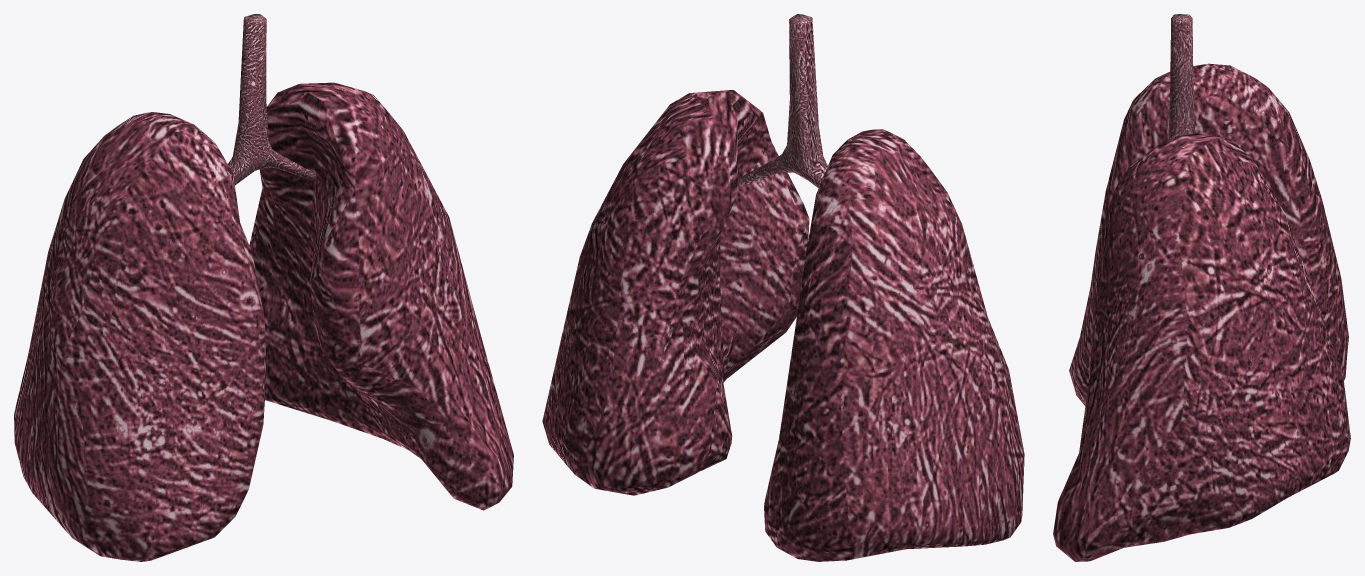
The model's file is lungs.gltf.
3 views of the same model, side by side, from view 1: azimuth 30°, elevation 25°; view 2: azimuth 150°, elevation 25°; view 3: azimuth 270°, elevation 25° (orthographic). The views are drawn at different scales.
Parts seen in each view (by area): view 1: Sphere.001, Sphere, Plane; view 2: Sphere.001, Sphere, Plane; view 3: Sphere, Sphere.001, Plane.
Boxes of the visible parts, <box> form: Sphere.001: <box>14,112,266,561</box>; Sphere: <box>249,82,513,510</box>; Plane: <box>228,14,316,185</box>; Sphere.001: <box>764,129,1024,561</box>; Sphere: <box>542,90,809,495</box>; Plane: <box>738,14,827,187</box>; Sphere: <box>1053,133,1350,561</box>; Sphere.001: <box>1069,63,1348,405</box>; Plane: <box>1168,14,1194,138</box>.
Bounding box in the file's own units: 2.68 × 2.99 × 1.75.
Materials: 2 (2 with a texture image).
